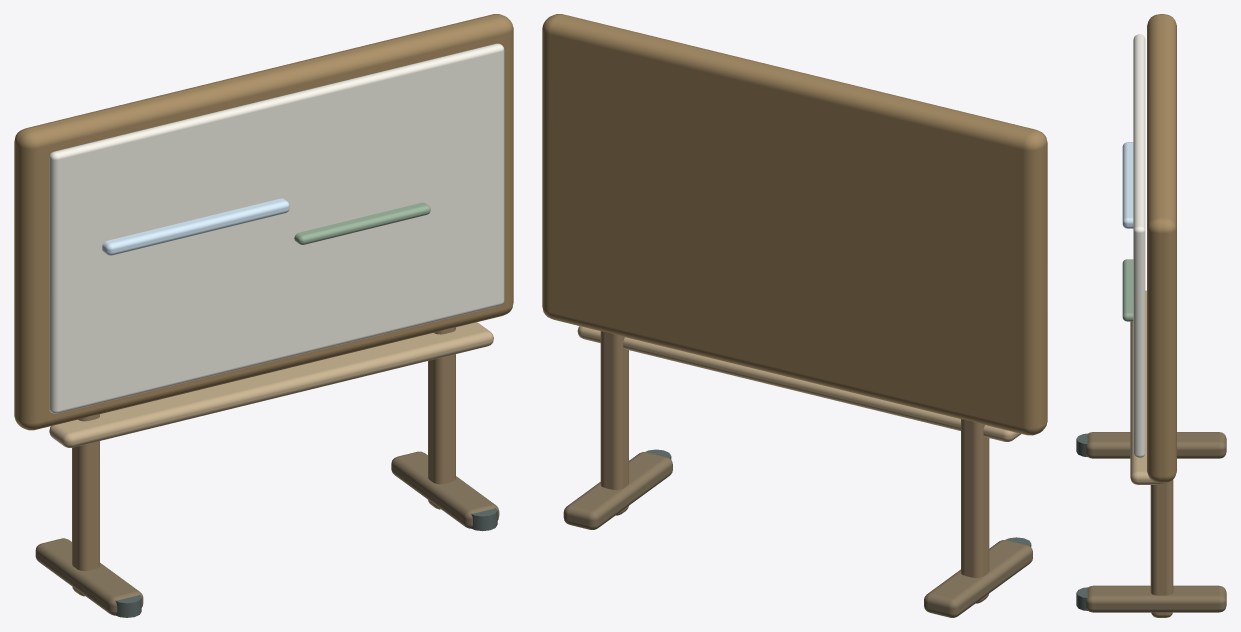
The model's file is board.glb.
3 views of the same model, side by side, from view 1: azimuth 30°, elevation 25°; view 2: azimuth 150°, elevation 25°; view 3: azimuth 270°, elevation 25° (orthographic). The views are drawn at different scales.
Parts seen in each view (by area): view 1: whiteboard; view 2: whiteboard; view 3: whiteboard.
Boxes of the visible parts, x1,y1,x2,y2 form: whiteboard: (14, 14, 513, 617); whiteboard: (542, 14, 1047, 617); whiteboard: (1076, 14, 1226, 617).
Bounding box in the file's own units: 1.95 × 1.8 × 0.58.
